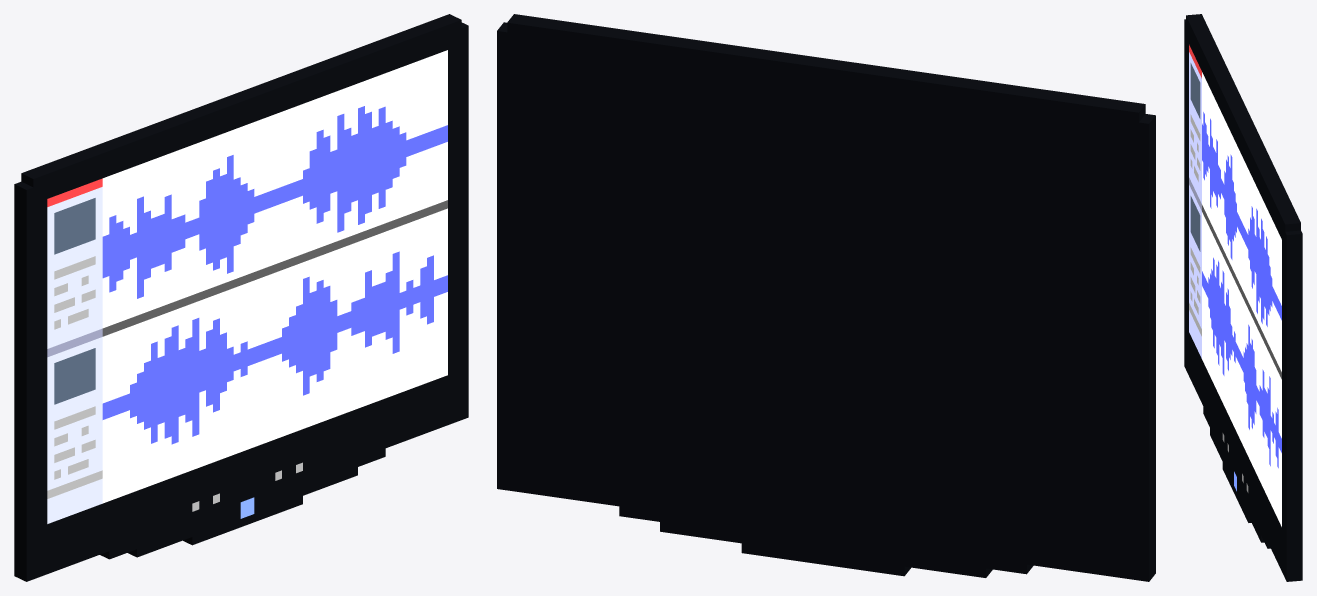
File: screen2.001_0_lev1_lev3.glb
3 renders of one model, left to right at view 1: azimuth 30°, elevation 25°; view 2: azimuth 150°, elevation 25°; view 3: azimuth 270°, elevation 25°, orthographic. The views are drawn at different scales.
Visible parts, largest first — view 1: screen2.001_0_lev1_lev3; view 2: screen2.001_0_lev1_lev3; view 3: screen2.001_0_lev1_lev3.
Boxes of the visible parts, <box> form: screen2.001_0_lev1_lev3: <box>14,14,468,581</box>; screen2.001_0_lev1_lev3: <box>497,14,1155,581</box>; screen2.001_0_lev1_lev3: <box>1184,14,1302,581</box>.
Size of the model in its own units: 1.34 by 1.09 by 0.3101.
Materials: 1 (1 with a texture image).
